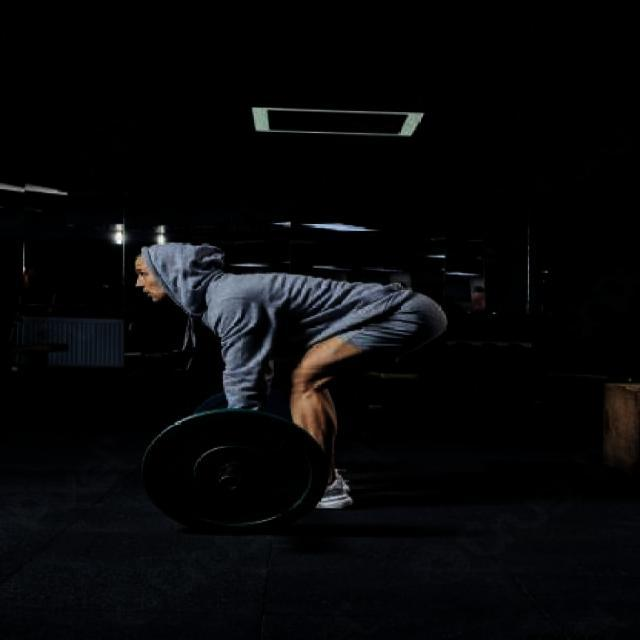barbell: (133, 399, 336, 540)
